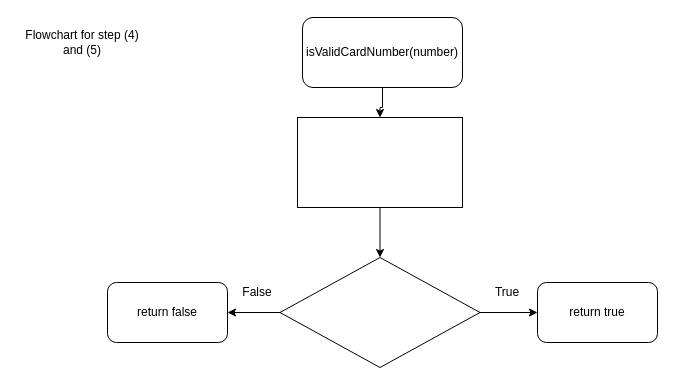
This 675x385 diagram has some shape labels left out. The centre of each missing label's shape, as x and y in pixels:
"if result % 10 = 0" belongs at point 379,312.
"result := addDoubleOfAllEvenDigits + addAllOddDigits" belongs at point 379,162.
